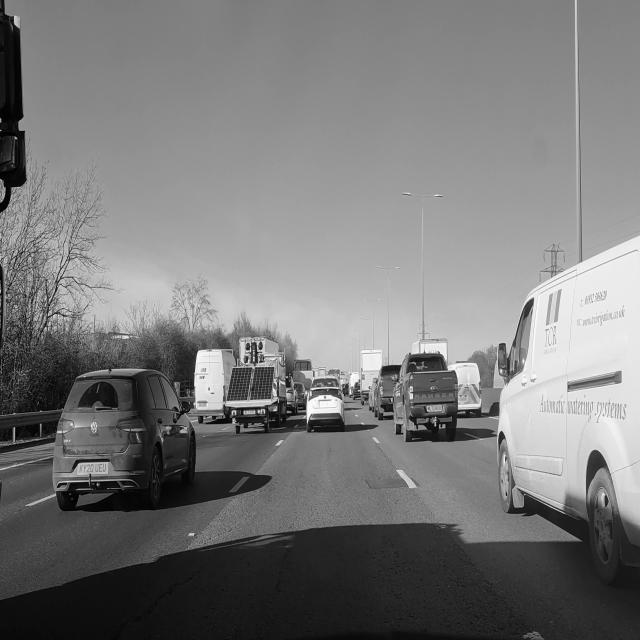car: (496, 239, 639, 583), (53, 369, 195, 510), (390, 346, 460, 444), (307, 379, 344, 432), (449, 362, 481, 417), (373, 365, 400, 420), (293, 383, 306, 409), (286, 387, 298, 415)
